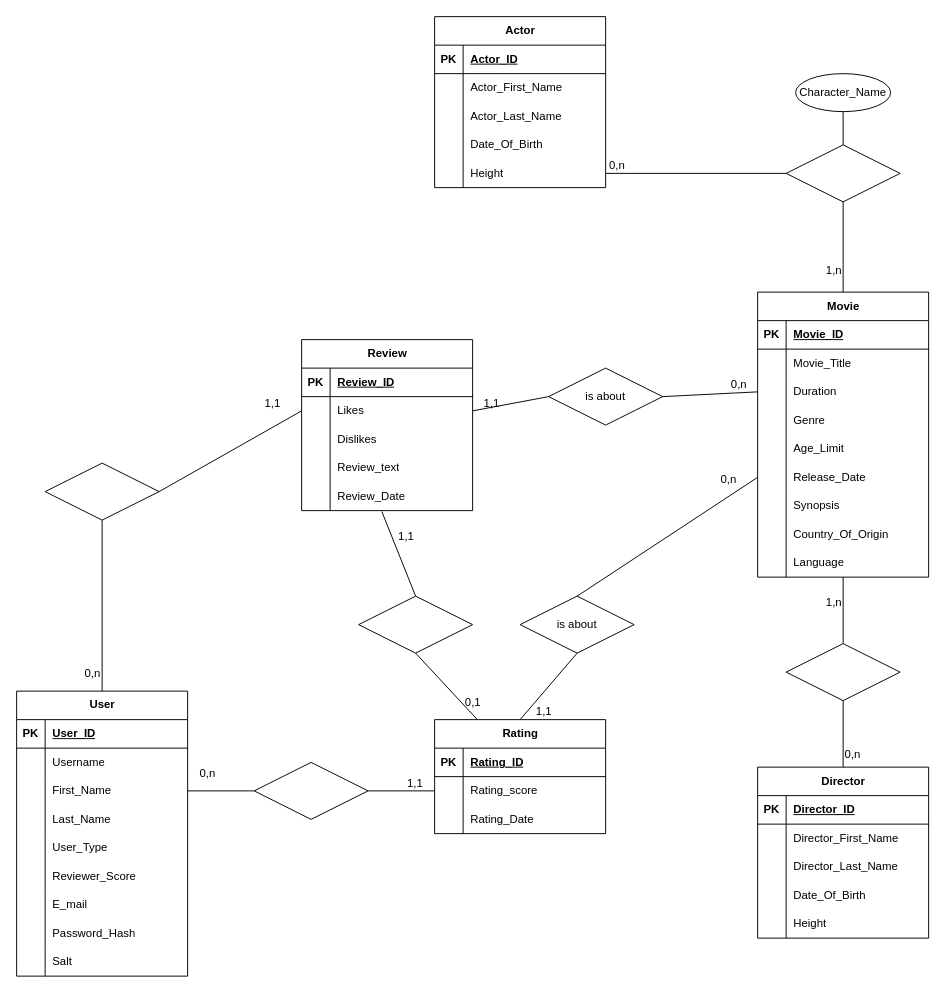
Some shapes in this 945 by 993 pixel diagram are drawn without their labels. The shapes that lost their labels are listed below. From the top down, each one's centre as x and y in pixels, then its label:
(x=842, y=173): Acts in
(x=101, y=491): writes
(x=415, y=624): contains a
(x=842, y=672): Directs
(x=310, y=790): Gives
